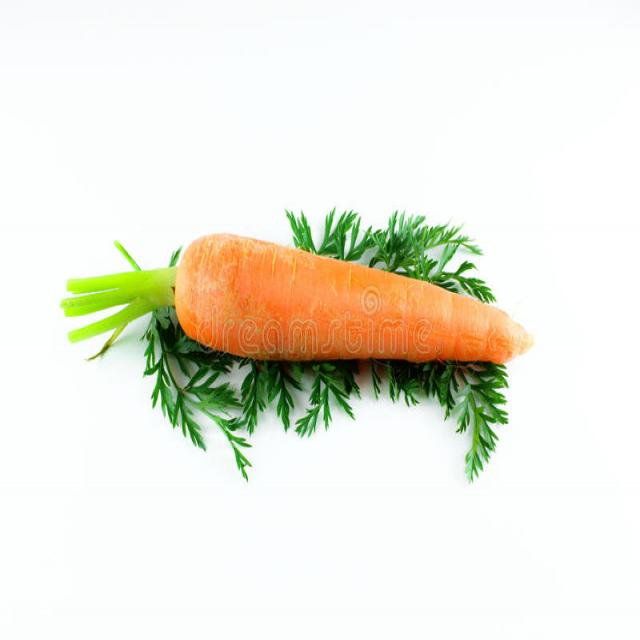Carrot: (180, 235, 536, 387)
